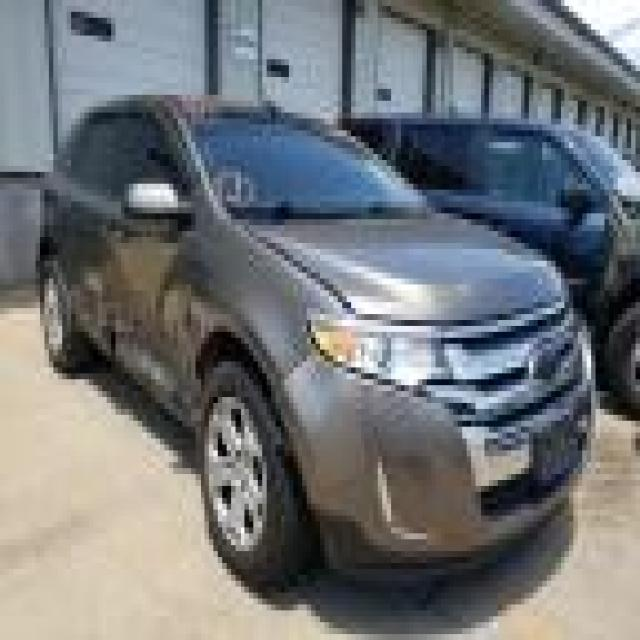minor: (239, 205, 374, 331)
